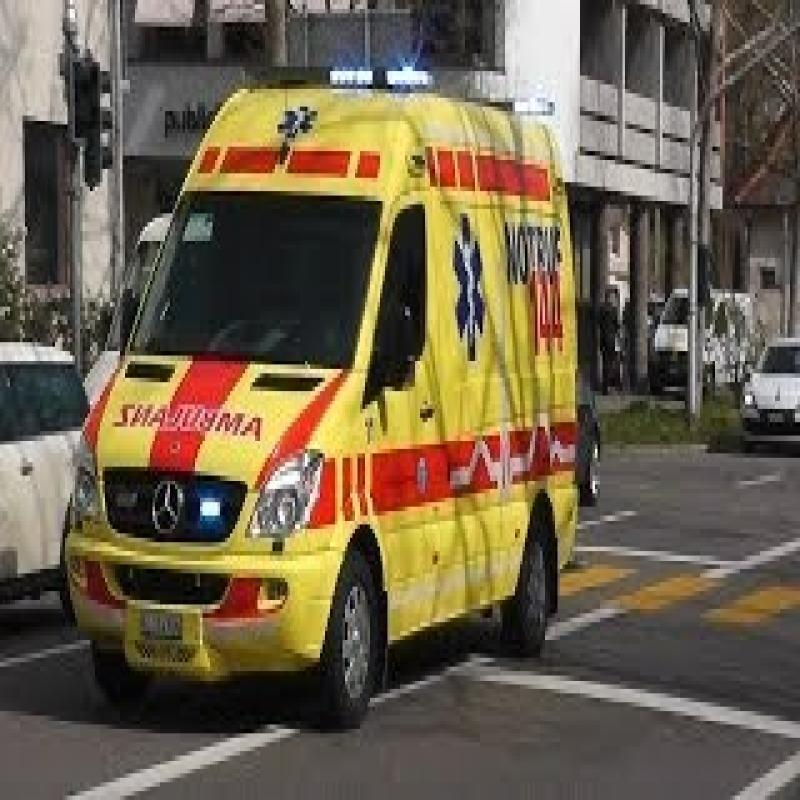AmbulanceSiren: (317, 51, 575, 121)
